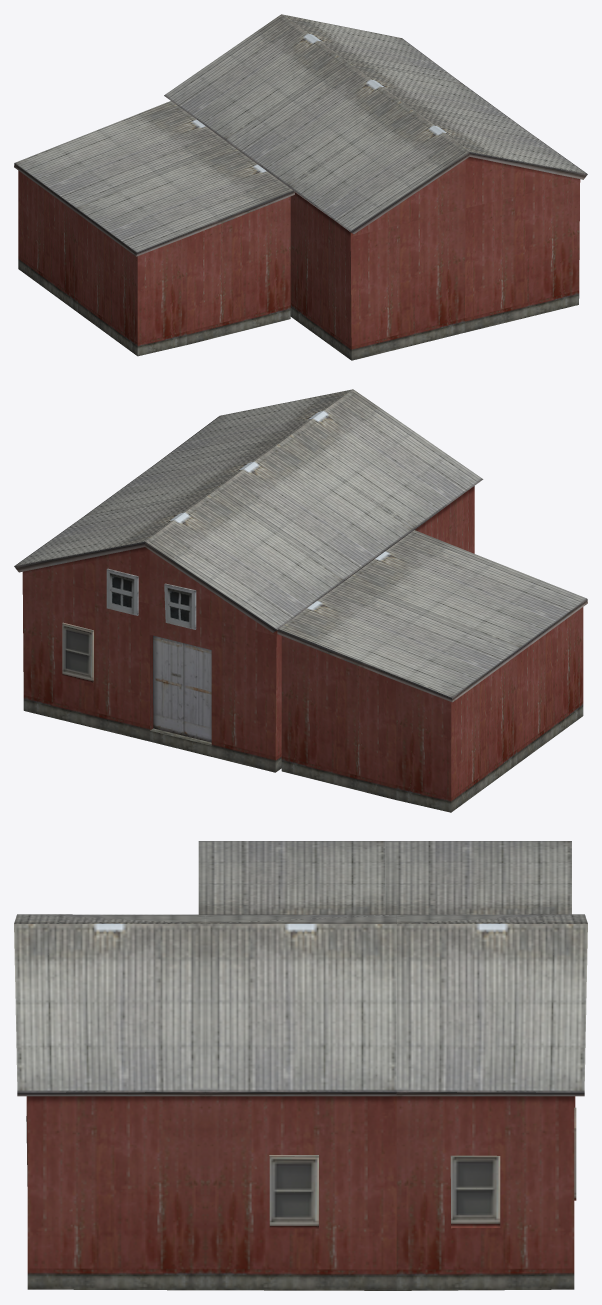
The model's file is barn_a.glb.
3 views of the same model, one above another, from view 1: azimuth 30°, elevation 25°; view 2: azimuth 150°, elevation 25°; view 3: azimuth 270°, elevation 25° (orthographic). The views are drawn at different scales.
Visible parts, largest first — view 1: barn01_elements_0, barn01_add_elements_0; view 2: barn01_elements_0, barn01_add_elements_0; view 3: barn01_elements_0, barn01_add_elements_0.
Part boxes in pixels (x1,y1,x2,y2): barn01_elements_0: (164,14,587,360); barn01_add_elements_0: (14,101,294,356); barn01_elements_0: (14,389,483,772); barn01_add_elements_0: (277,530,587,812); barn01_elements_0: (14,914,587,1290); barn01_add_elements_0: (198,841,571,914).
Size of the model in its own units: 2.12 by 0.955 by 1.76.
Materials: 1 (1 with a texture image).
